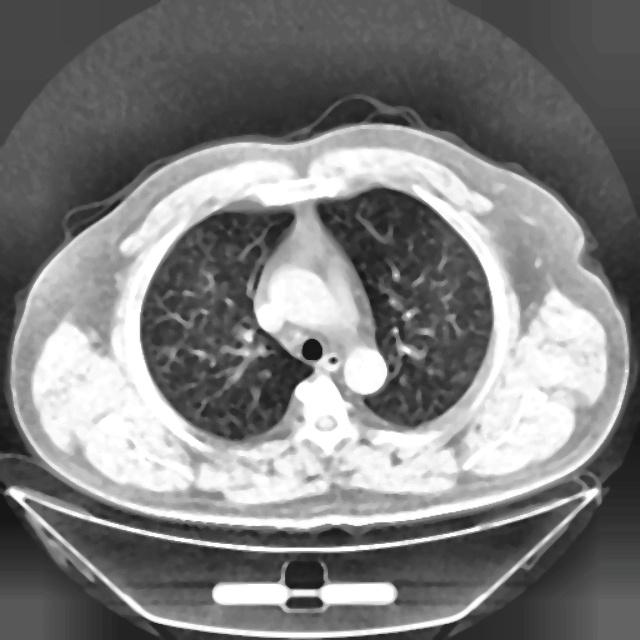covid: (8, 102, 630, 535)
